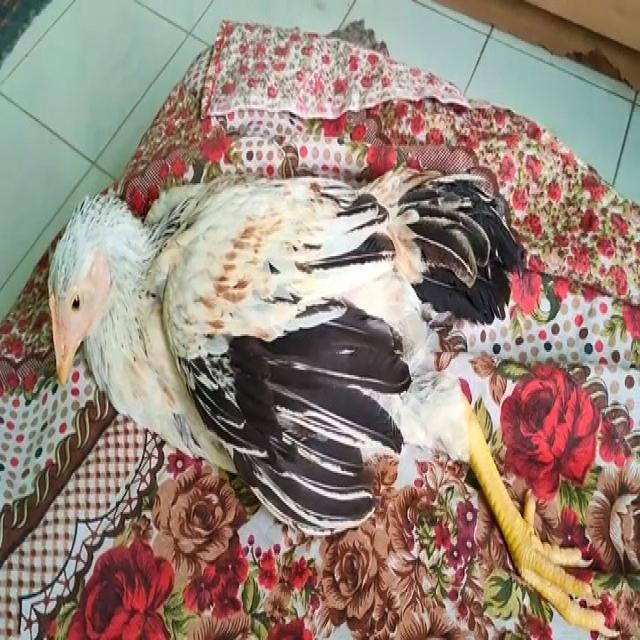leg stretching: (41, 76, 599, 640)
